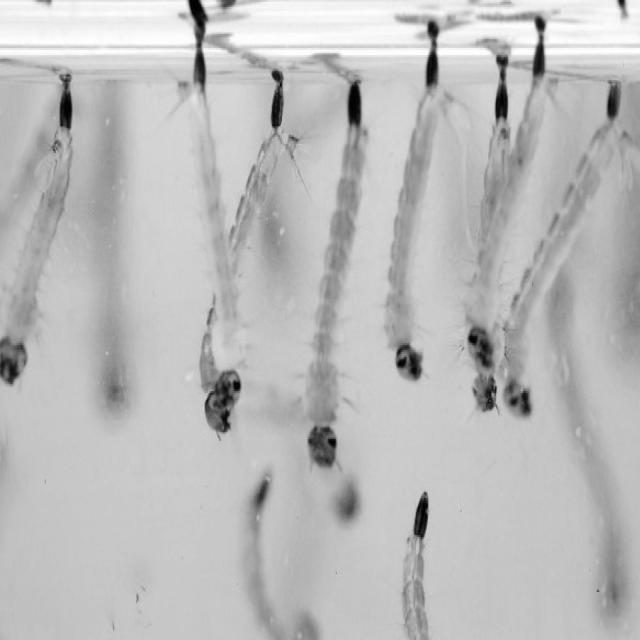larvas: (508, 84, 616, 410), (204, 75, 292, 433), (548, 300, 628, 619), (207, 362, 358, 515), (0, 74, 74, 386), (474, 23, 540, 361), (308, 83, 364, 465), (190, 35, 246, 407), (387, 15, 444, 376), (95, 80, 138, 399), (471, 65, 510, 411), (249, 481, 319, 640), (399, 485, 436, 640)
